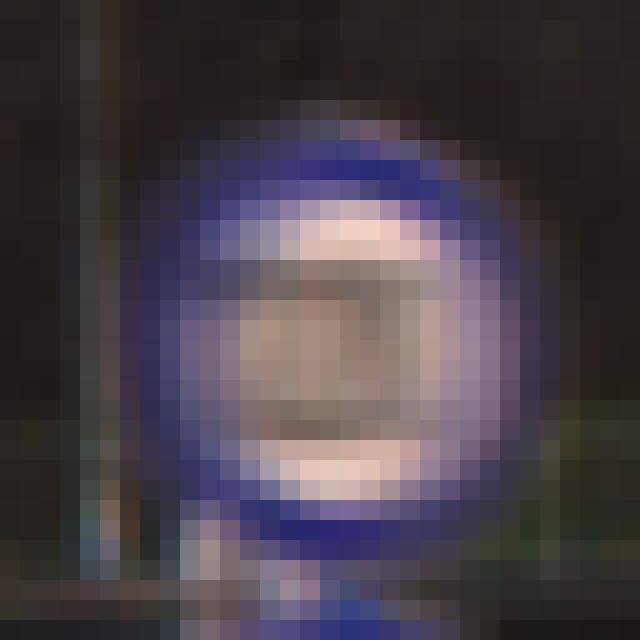SPEED LIMIT 120: (114, 143, 546, 547)
